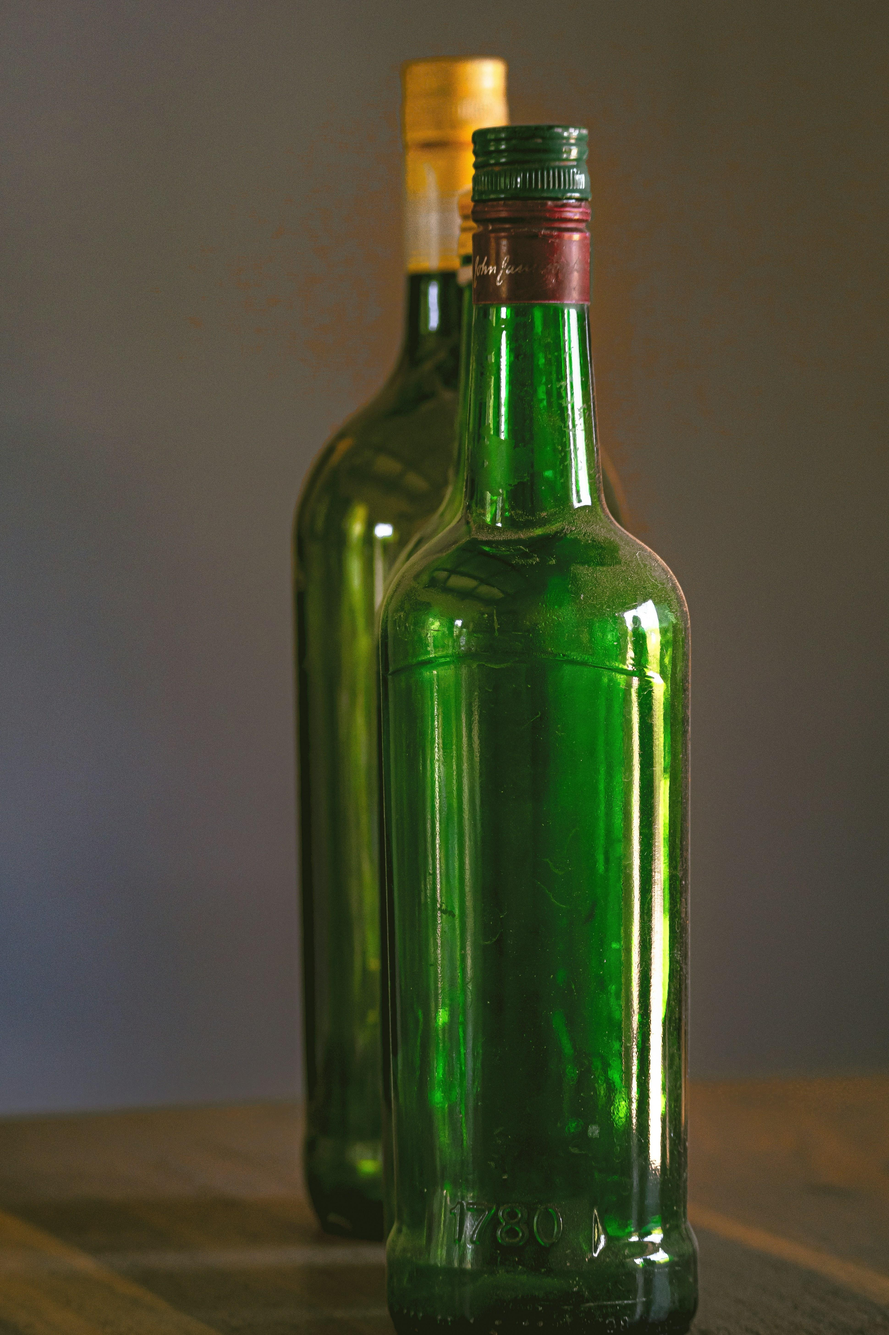Bottle-Detection: (351, 112, 752, 1335), (282, 32, 637, 1335)
